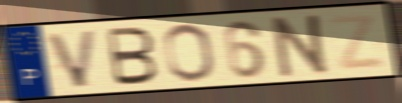6: (222, 18, 268, 81)
B: (105, 25, 160, 87)
N: (270, 11, 333, 80)
O: (161, 21, 218, 83)
V: (44, 27, 100, 90)
Z: (325, 11, 388, 72)
